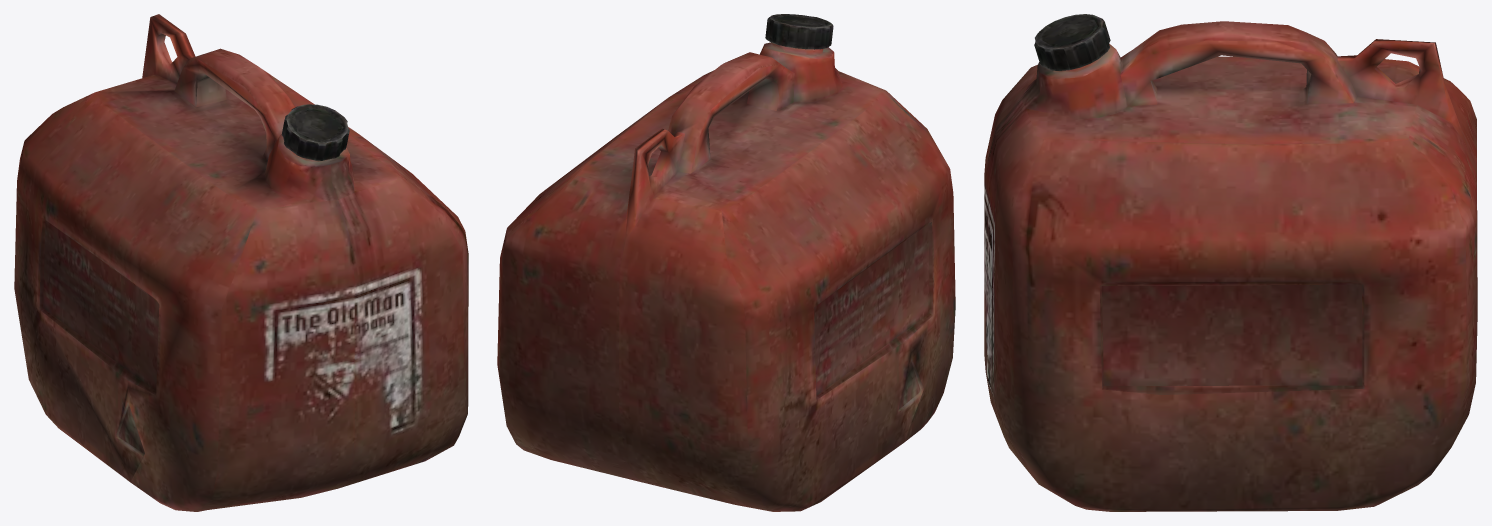
The model's file is g_jerry_p.glb.
The picture shows the model from 3 angles, left to right: view 1: azimuth 30°, elevation 25°; view 2: azimuth 150°, elevation 25°; view 3: azimuth 270°, elevation 25°; orthographic projection. The views are drawn at different scales.
Parts seen in each view (by area): view 1: plastic_jerrycan; view 2: plastic_jerrycan; view 3: plastic_jerrycan.
Boxes of the visible parts, <box> form: plastic_jerrycan: <box>14,14,468,511</box>; plastic_jerrycan: <box>497,14,955,511</box>; plastic_jerrycan: <box>984,14,1477,511</box>.
Bounding box in the file's own units: 0.2675 × 0.318 × 0.3404.
1 material, 1 textured.
